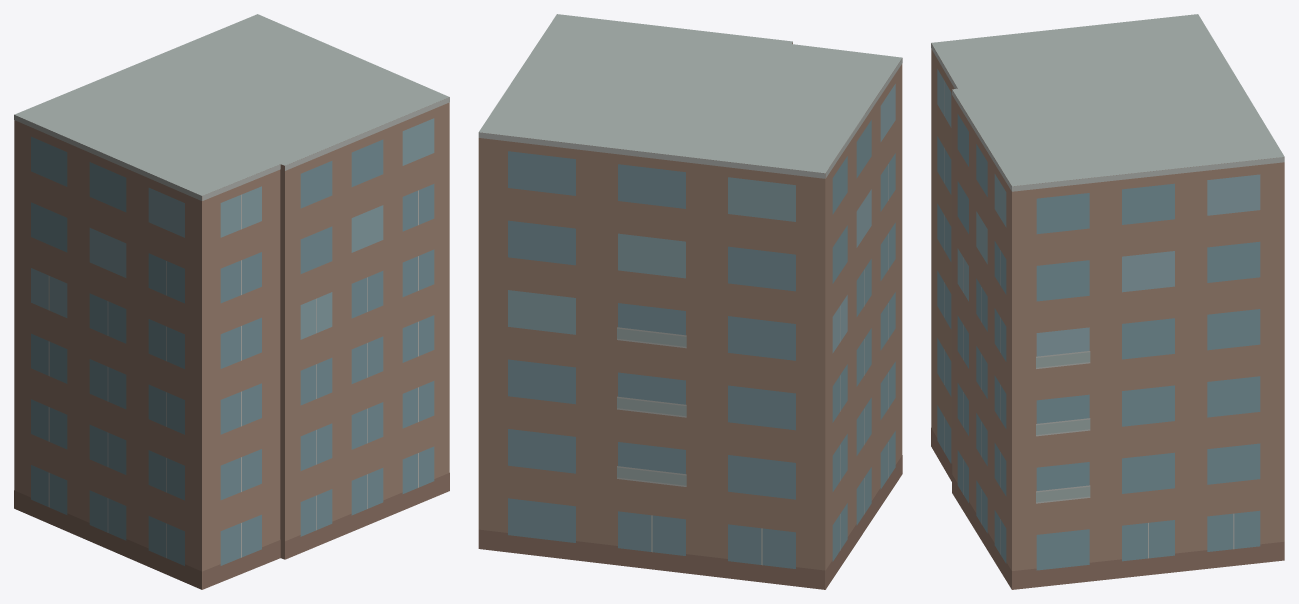
File: survey-upis-32975565.glb
3 views of the same model, side by side, from view 1: azimuth 30°, elevation 25°; view 2: azimuth 150°, elevation 25°; view 3: azimuth 270°, elevation 25° (orthographic). The views are drawn at different scales.
Parts seen in each view (by area): view 1: survey-upis-32975565.tmp; view 2: survey-upis-32975565.tmp; view 3: survey-upis-32975565.tmp.
Boxes of the visible parts, x1,y1,x2,y2 form: survey-upis-32975565.tmp: (14,14,449,589); survey-upis-32975565.tmp: (478,14,902,589); survey-upis-32975565.tmp: (931,14,1284,589).
Bounding box in the file's own units: 16.77 × 18.3 × 14.54.
